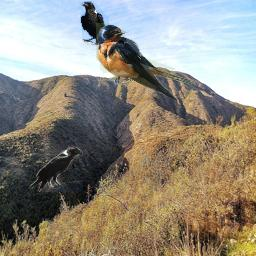Crow: (27, 145, 83, 192), (80, 1, 109, 47)
Swallow: (96, 23, 197, 100)
